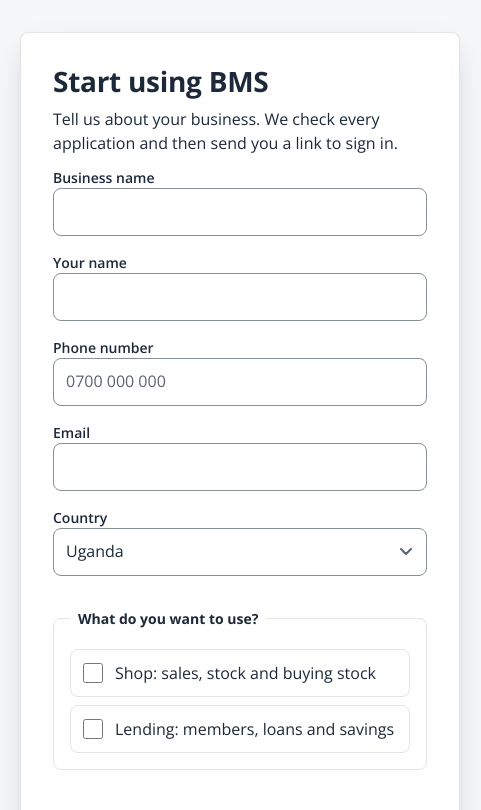
Test: the sign-up page › fills in Referred by from a referral link and sends it with the application
Type "Test Hardware Shop" into the field labelled "Business name" at (240,212), box [53,188,427,236]
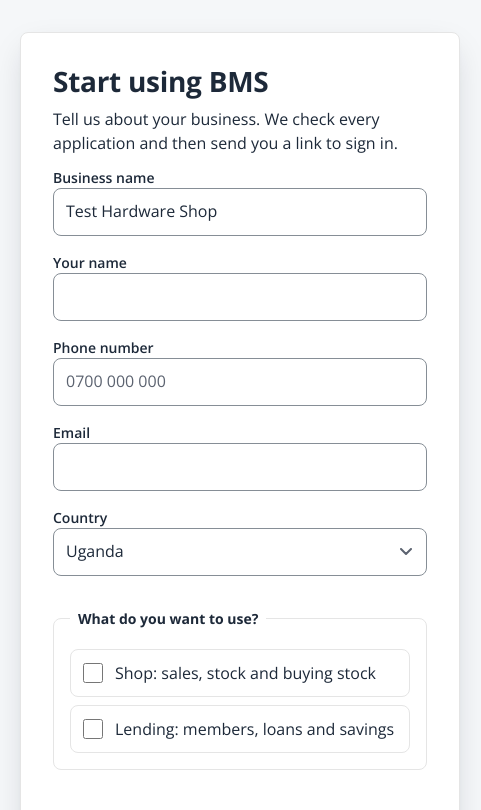
Type "Test Applicant 01" into the field labelled "Your name" at (240,297), box [53,273,427,321]
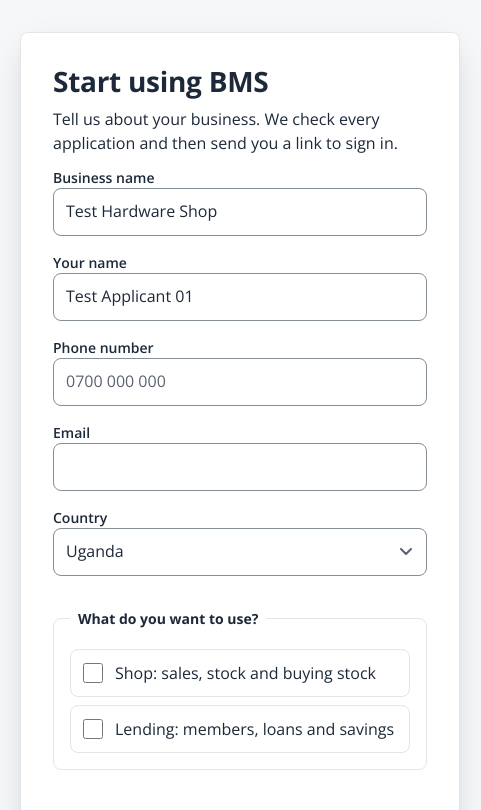
Type "0700 000 001" into the field labelled "Phone number" at (240,382), box [53,358,427,406]
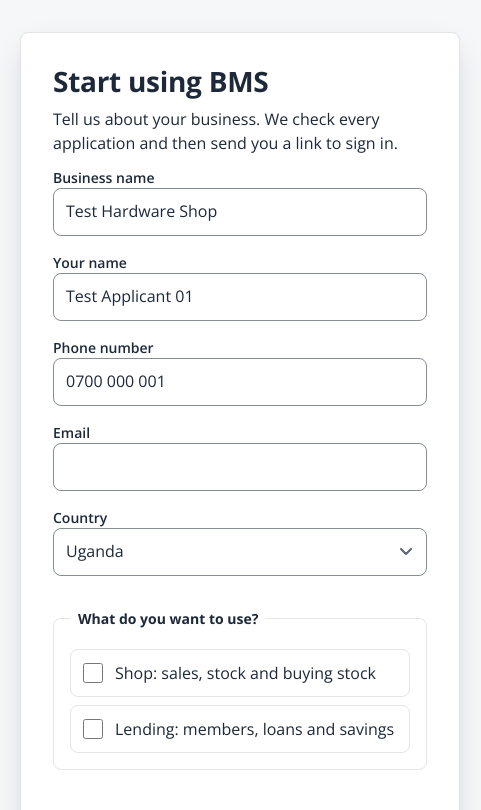
Type "applicant01@example.test" into the field labelled "Email" at (240,467), box [53,443,427,491]
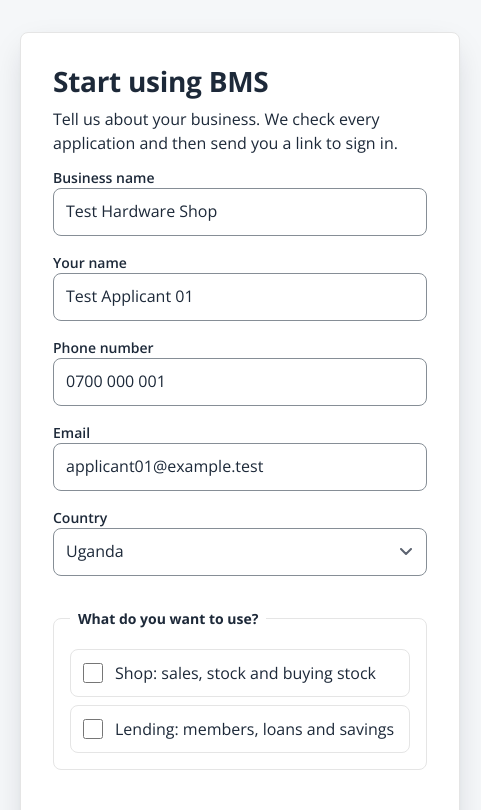
Click the checkbox labelled "Shop: sales, stock and buying stock" at (93,673), box [83,663,103,683]
(page scrolled)
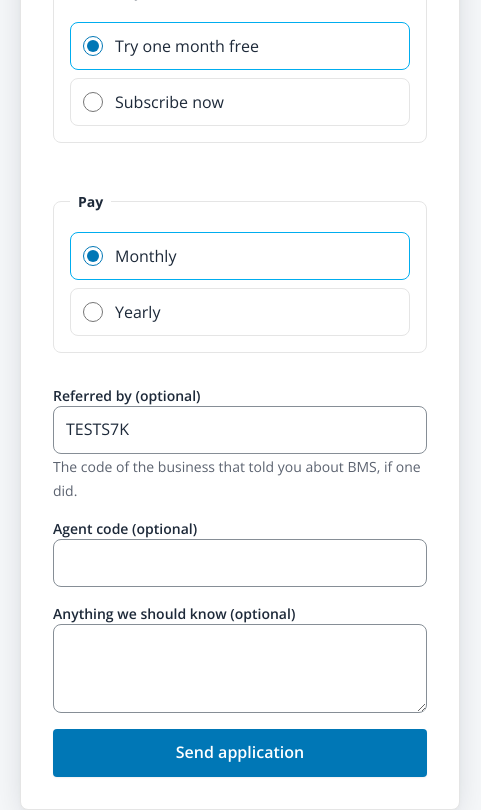
Click the button "Send application" at (240,753), box [53,729,427,777]
(page scrolled)
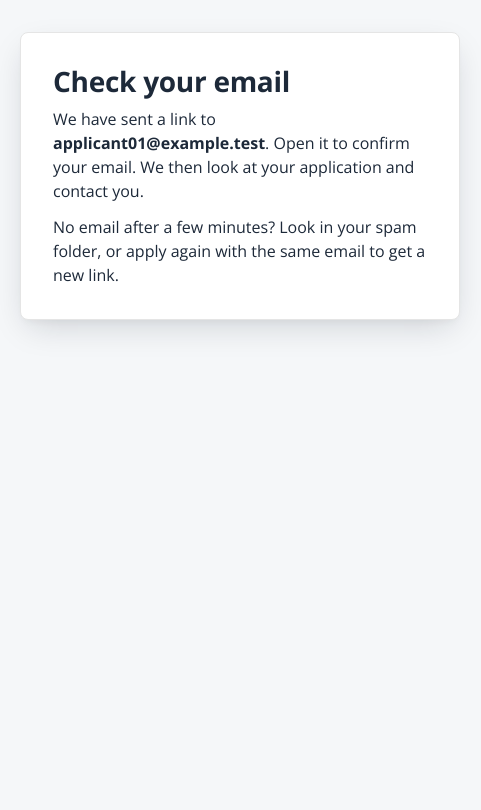
Expected: the heading "Check your email" is shown, [53,62,290,100]
